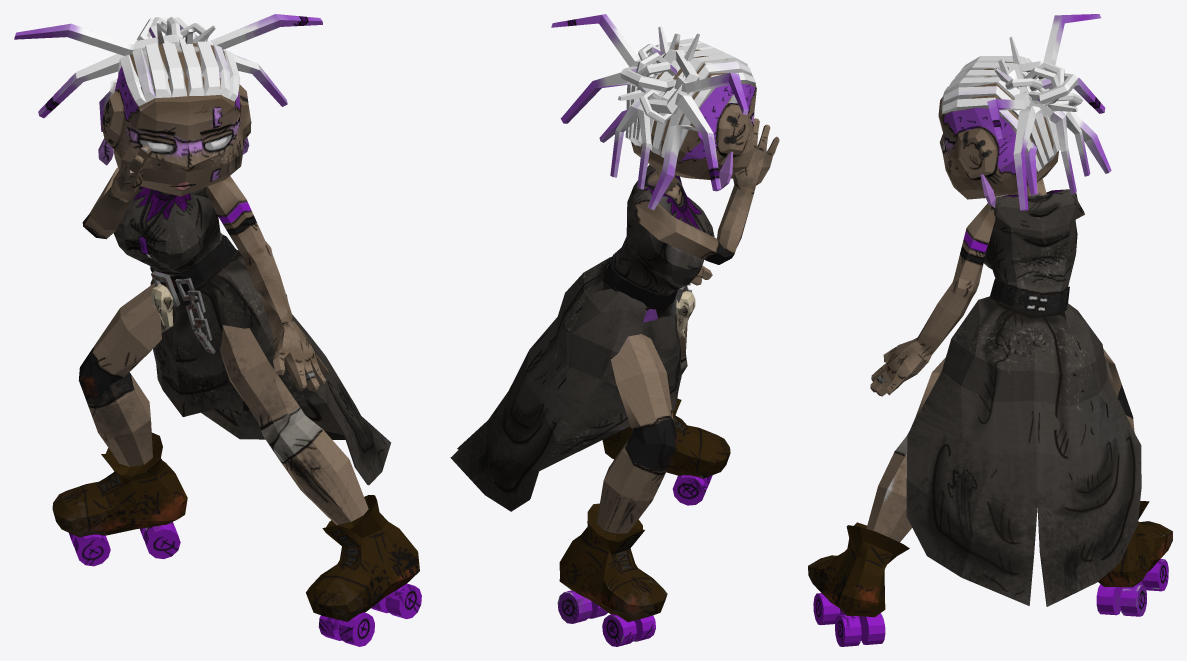
Rendered from bruja_000019.obj.
3 views of the same model, side by side, from view 1: azimuth 30°, elevation 25°; view 2: azimuth 150°, elevation 25°; view 3: azimuth 270°, elevation 25° (orthographic). The views are drawn at different scales.
Parts seen in each view (by area): view 1: Bruja_Plane.001; view 2: Bruja_Plane.001; view 3: Bruja_Plane.001.
Part boxes in pixels (x1,y1,x2,y2): Bruja_Plane.001: (14,14,421,646); Bruja_Plane.001: (450,14,779,646); Bruja_Plane.001: (808,14,1172,646).
Bounding box in the file's own units: 9.37 × 15.44 × 9.24.
